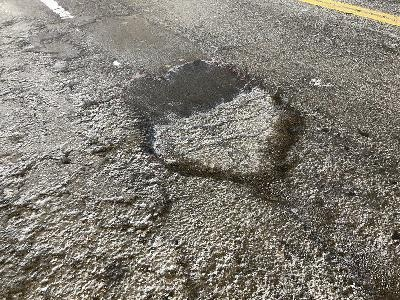pothole: (120, 54, 307, 203)
